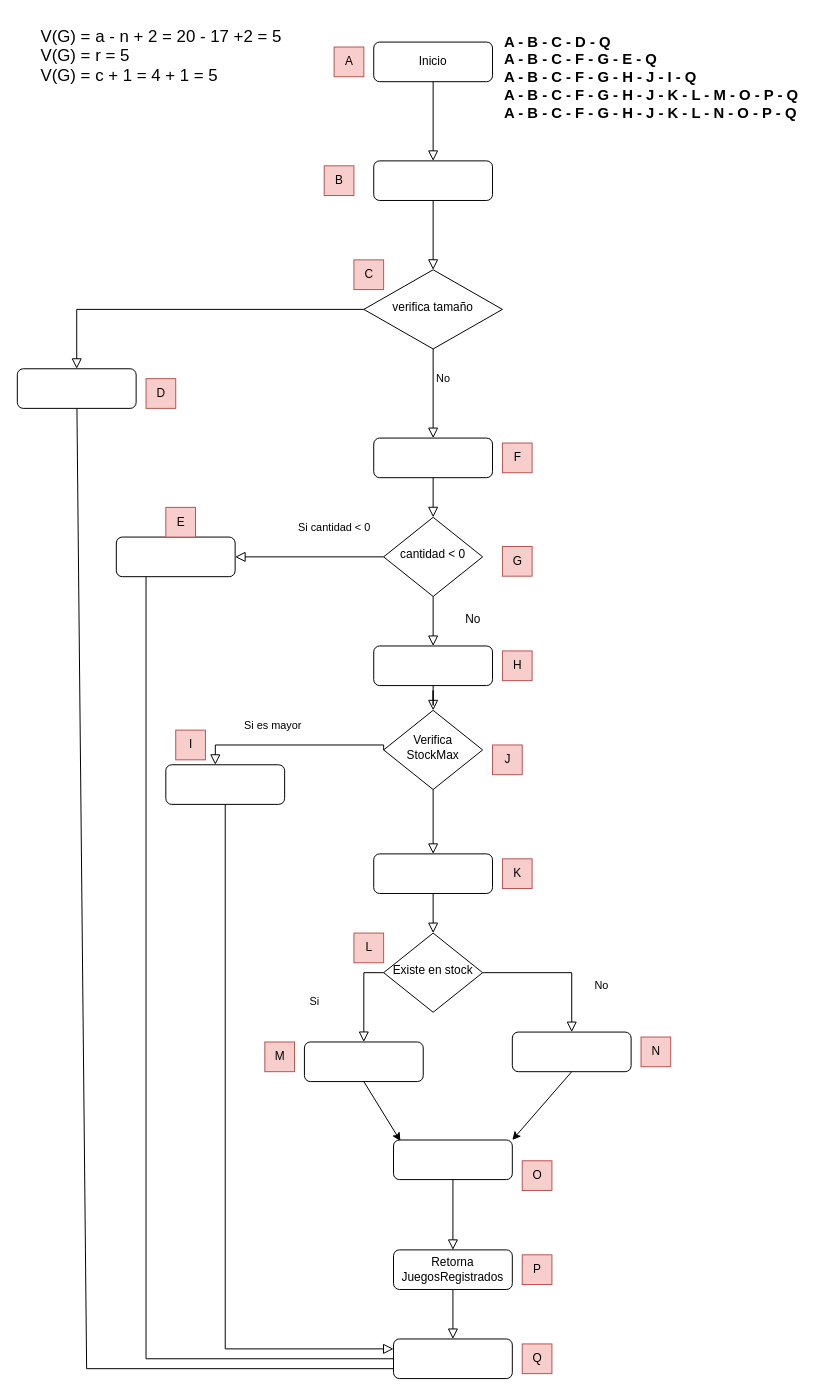
This 837x1396 diagram has some shape labels left out. The shapes that lost their labels are listed below. From the top down, each one's centre as x and y in pixels, then its label:
At point (433, 180): "x = 0".
At point (76, 388): "return -1".
At point (433, 457): "inicializa cantTotal".
At point (175, 556): "return -2".
At point (433, 665): "Sumar cantTotal".
At point (225, 784): "return -3".
At point (433, 873): "Iterar codigos".
At point (363, 1061): "Actualizar Stock".
At point (571, 1051): "Agregar Nuevo Stock".
At point (452, 1159): "Actualizar JuegosRegistrados".
At point (452, 1358): "Fin".
